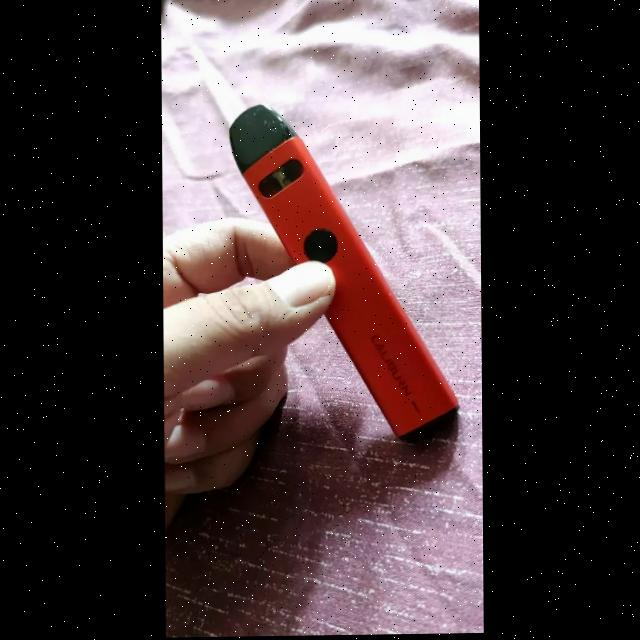vape: (227, 104, 458, 450)
